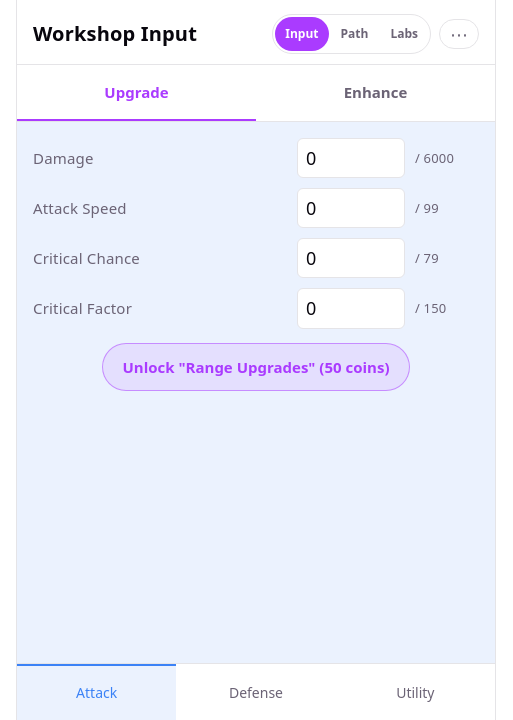
Test: App › switches to the Enhance mode, showing Enhancement categories with a computed value
The width and height of the screenshot is (513, 720).
Click the tab "Enhance" at (376, 93), box [256,65,495,121]
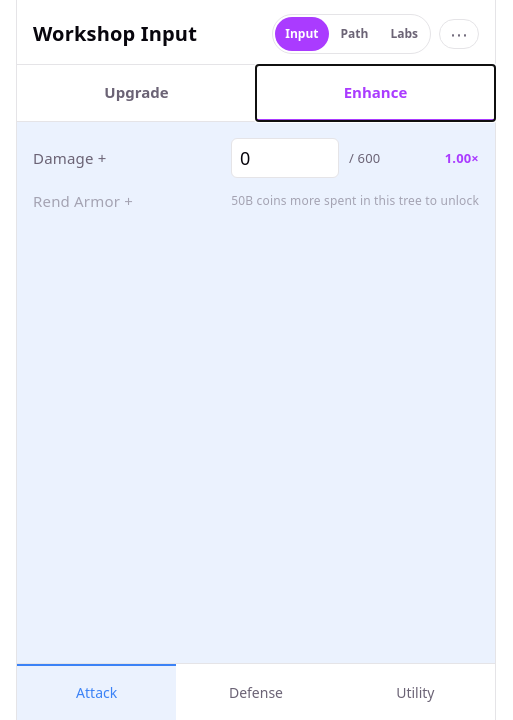
Check: the tab "Attack" is shown, box [17,664,176,719]
Check: the text "1.00×" is shown, box [445,149,479,167]
